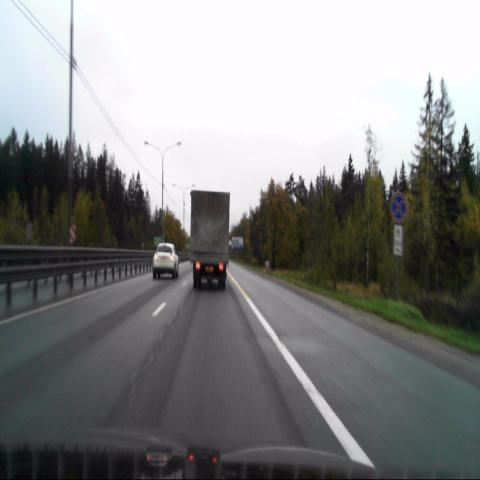8_2_2: (393, 225, 403, 255)
